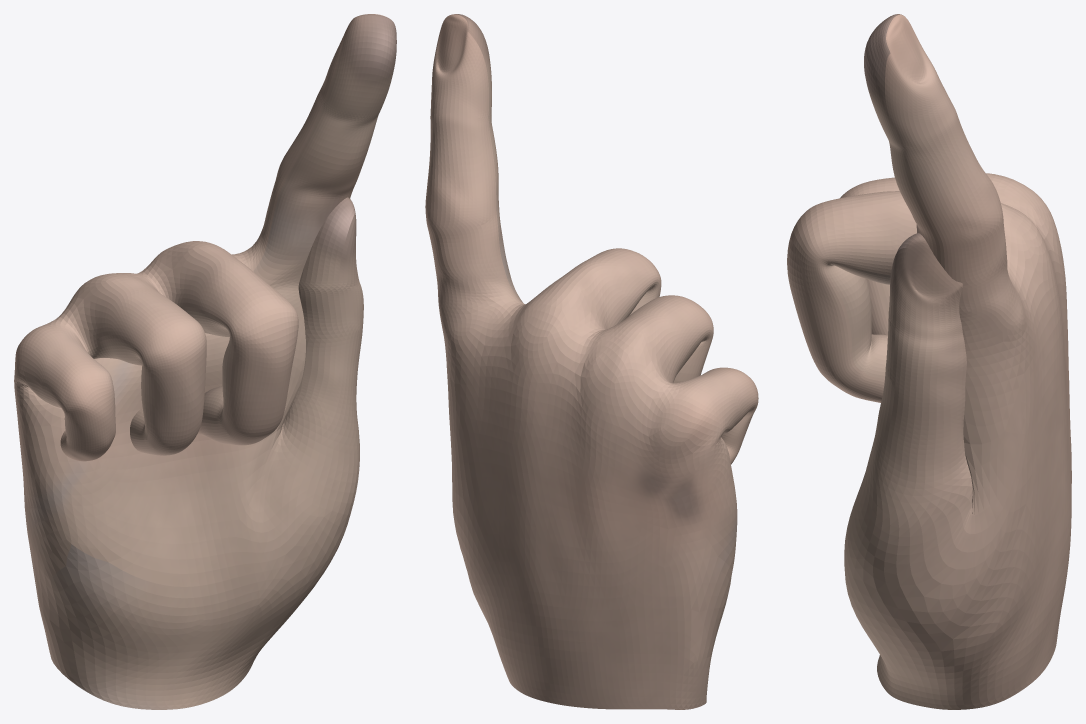
File: Main_Pointe.glb
The picture shows the model from 3 angles, left to right: view 1: azimuth 30°, elevation 25°; view 2: azimuth 150°, elevation 25°; view 3: azimuth 270°, elevation 25°; orthographic projection. The views are drawn at different scales.
Parts seen in each view (by area): view 1: Main_Pointe.glb; view 2: Main_Pointe.glb; view 3: Main_Pointe.glb.
Part boxes in pixels (x1,y1,x2,y2): Main_Pointe.glb: [14, 14, 396, 709]; Main_Pointe.glb: [425, 14, 758, 709]; Main_Pointe.glb: [787, 14, 1071, 709].
Bounding box in the file's own units: 0.0868 × 0.16 × 0.0543.
Materials: 1 (1 with a texture image).
